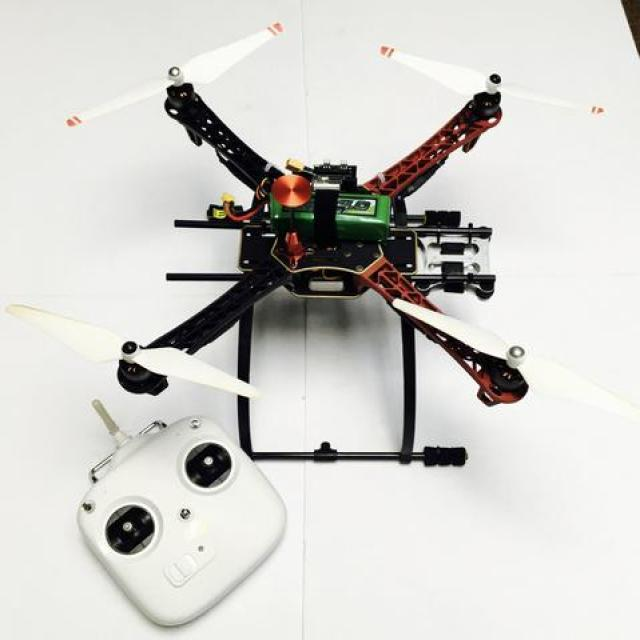drone: (10, 41, 640, 473)
